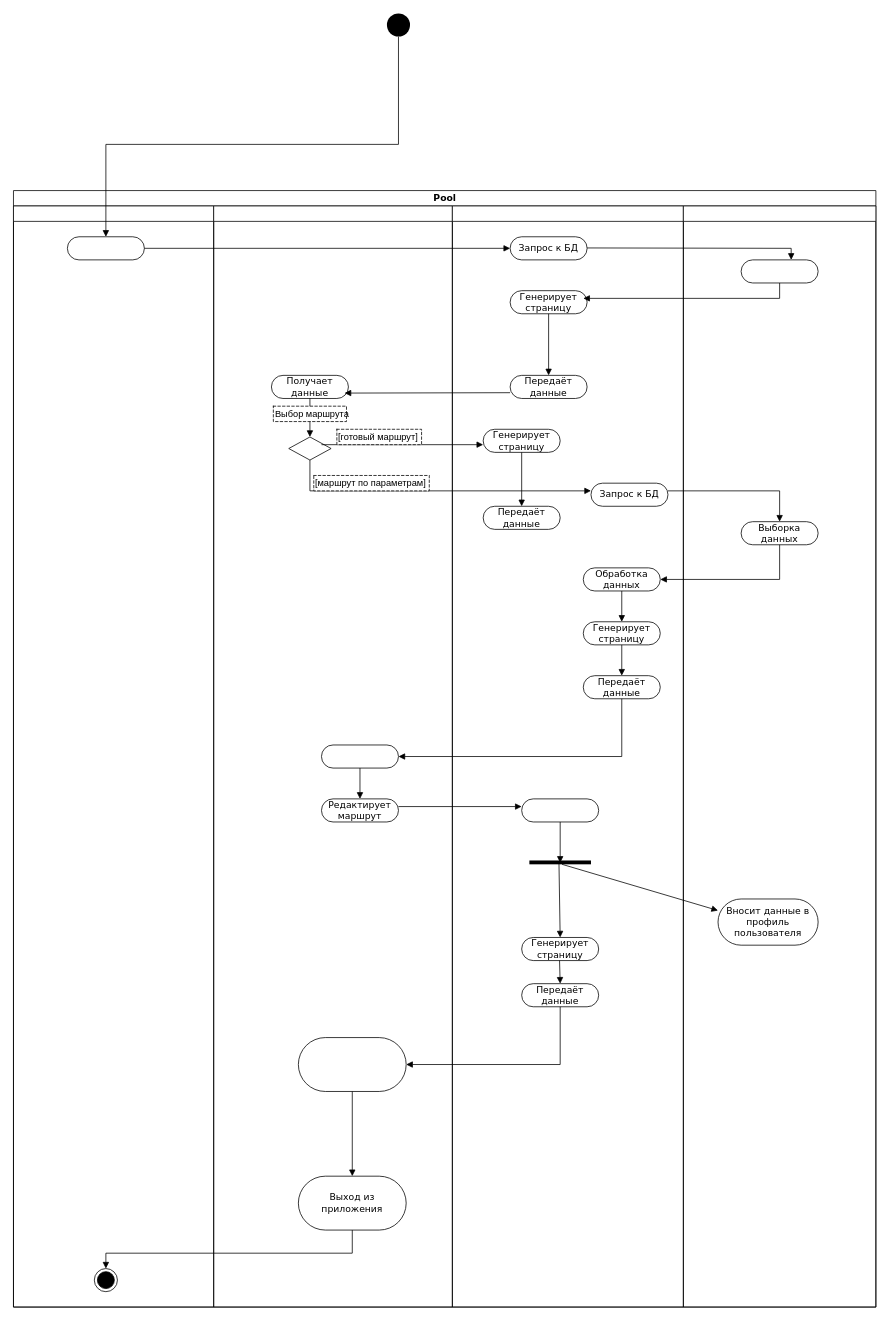
Some shapes in this 889 by 1321 pixel diagram are drawn without their labels. The shapes that lost their labels are listed below. From the top down, each one's box as (x1, y1, x2, y2) in pixels, then its label:
(67, 236, 144, 260): Регистрация
(740, 259, 818, 283): Проверяет, вносит данные
(13, 205, 214, 1307): Неавторизованный пользователь
(213, 205, 452, 1307): Авторизованный пользователь
(321, 744, 398, 768): Получает маршрут
(452, 205, 683, 1307): Веб-сервер
(683, 205, 876, 1307): БД
(521, 798, 599, 822): Обработка изменений
(298, 1037, 406, 1091): Получает отображение итогового маршрута
